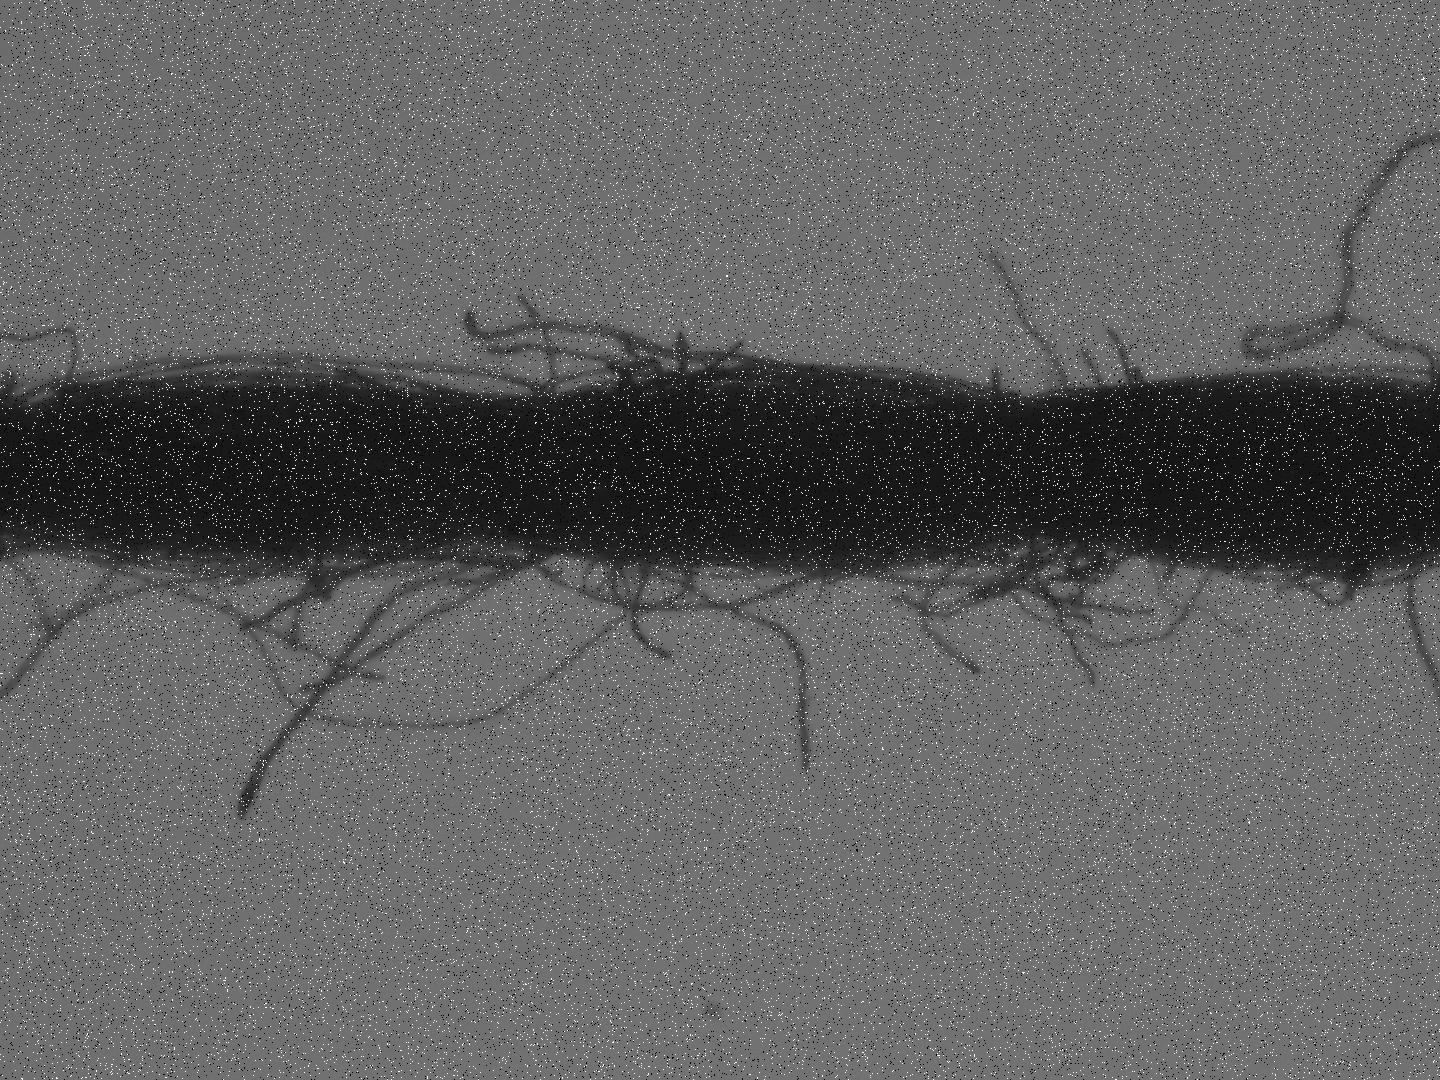loop_fiber: (17, 348, 481, 423), (510, 535, 882, 617), (19, 354, 544, 412), (964, 511, 1145, 625), (1269, 550, 1435, 611), (536, 352, 730, 403), (336, 531, 543, 571), (581, 548, 700, 616)
protruding_fiber: (221, 554, 475, 825), (976, 243, 1083, 404)
